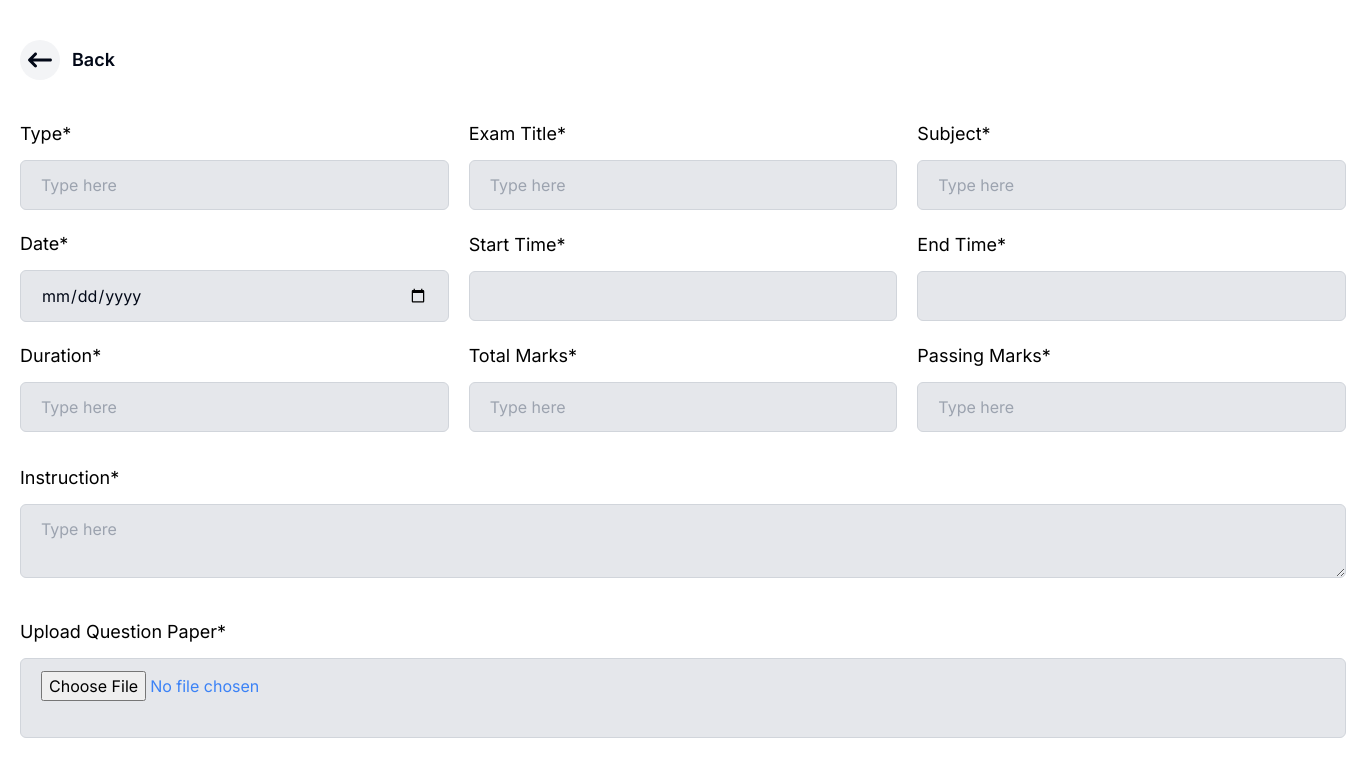
Scenario: ExamDetails Component › should reset the form when Cancel button is clicked
The width and height of the screenshot is (1366, 768).
Step 1. Type "Midterm" into the field labelled "Type*" → (234, 185), box [20, 160, 449, 210]
(page scrolled)
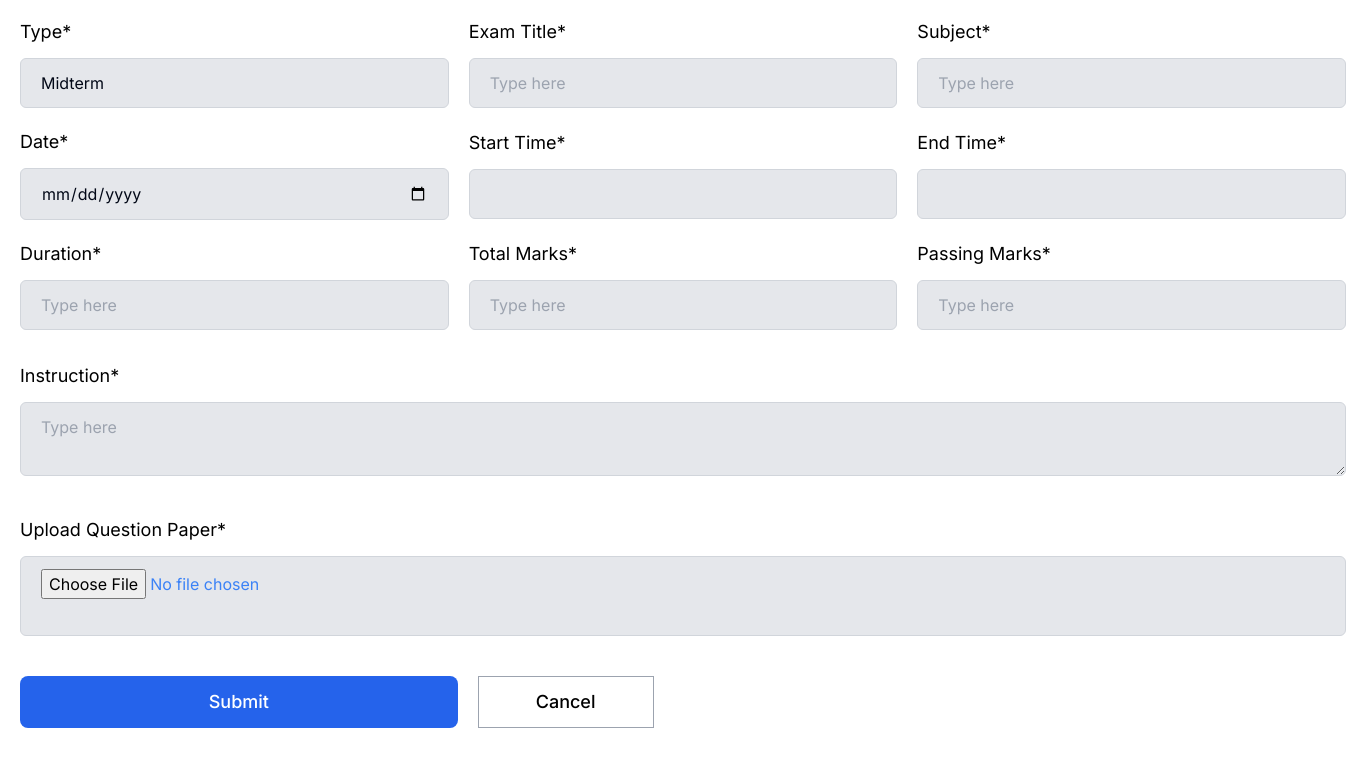
Step 2. Click the button "Cancel" → (566, 702), box [478, 676, 654, 728]
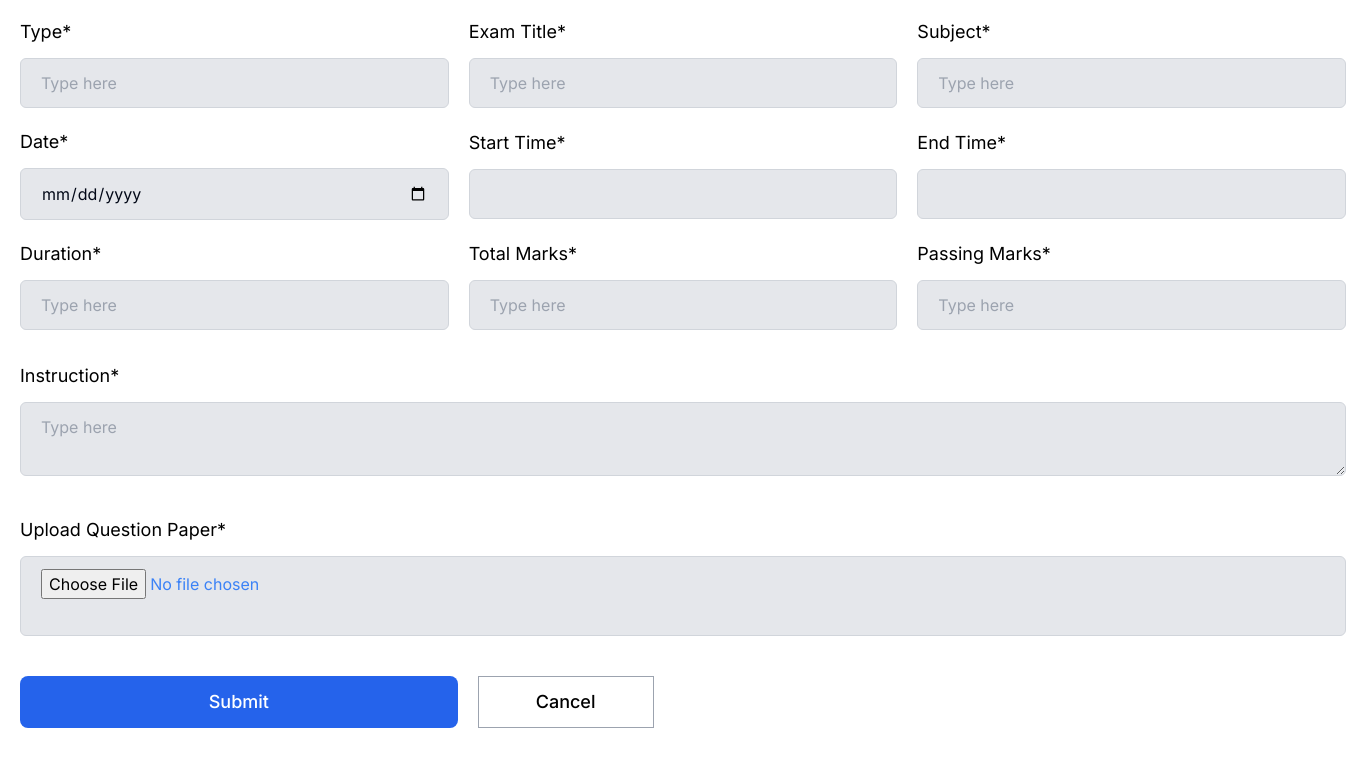
Result: the field labelled "Type*" is empty at [20, 58, 449, 108]
